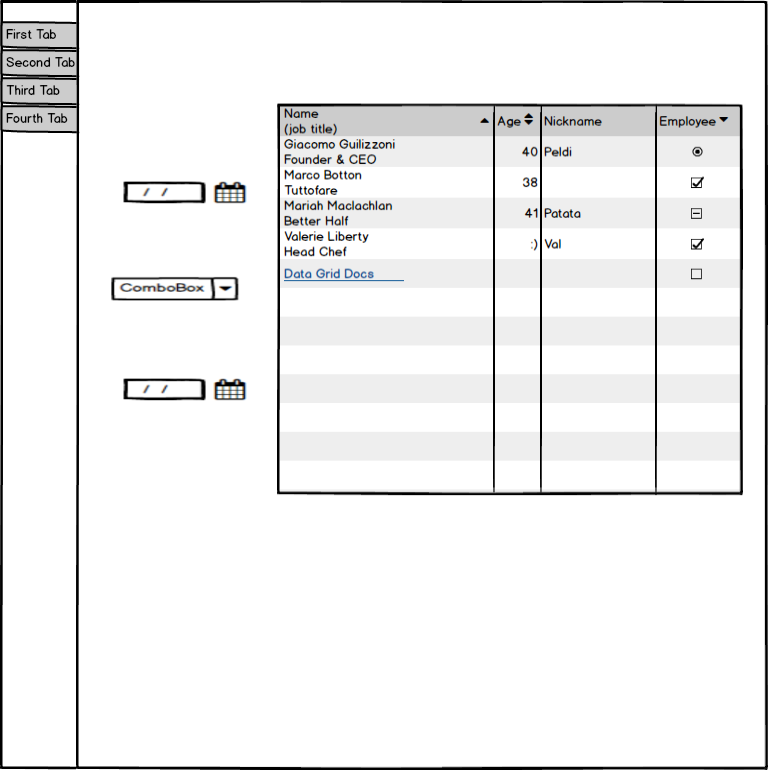date_picker: (117, 369, 252, 409), (115, 174, 250, 211)
select_box: (107, 270, 244, 306)
sidebar: (1, 16, 82, 140)
table: (272, 99, 750, 501)
